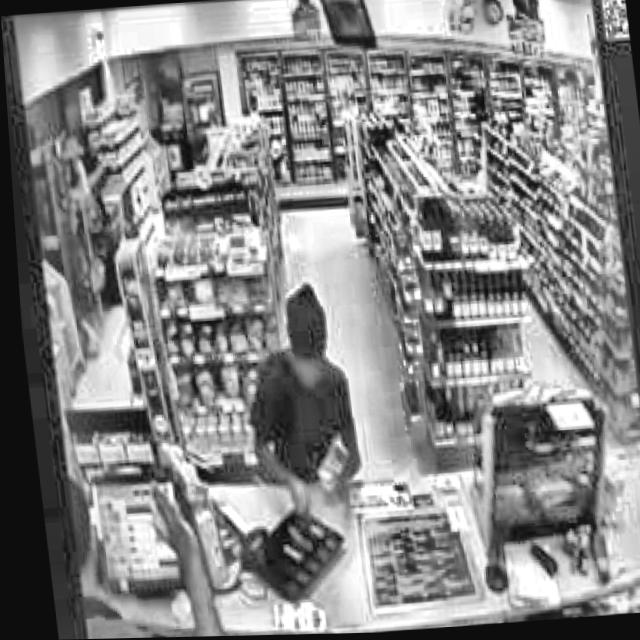robbery: (224, 282, 364, 535), (65, 472, 224, 639)
